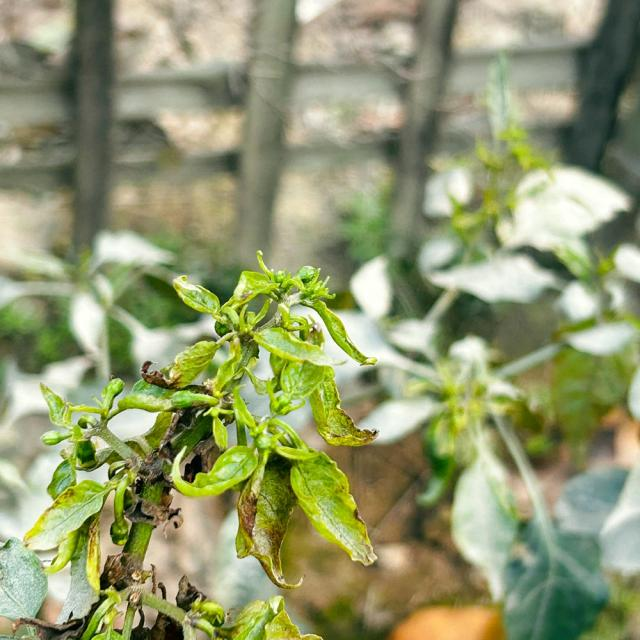Chilli_Leaf_Curl: (4, 55, 637, 638), (348, 55, 638, 638), (20, 249, 381, 634)
